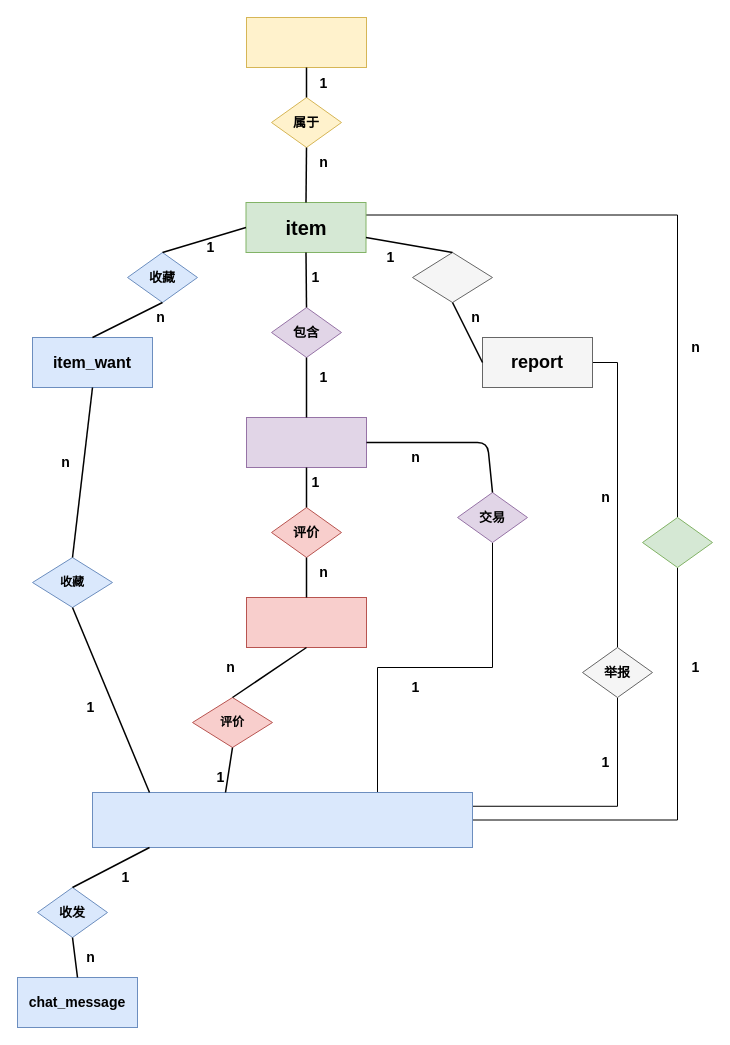
The diagram is 730 pixels wide and 1045 high, and some of its shapes have lost their labels. The shapes that lost their labels are listed below. From the top down, each one's centre as x and y in pixels, then its label:
At point 306,42: "item_category".
At point 452,277: "被举报".
At point 306,442: "trade_order".
At point 677,542: "发布".
At point 306,622: "comment".
At point 282,820: "sys_user".
